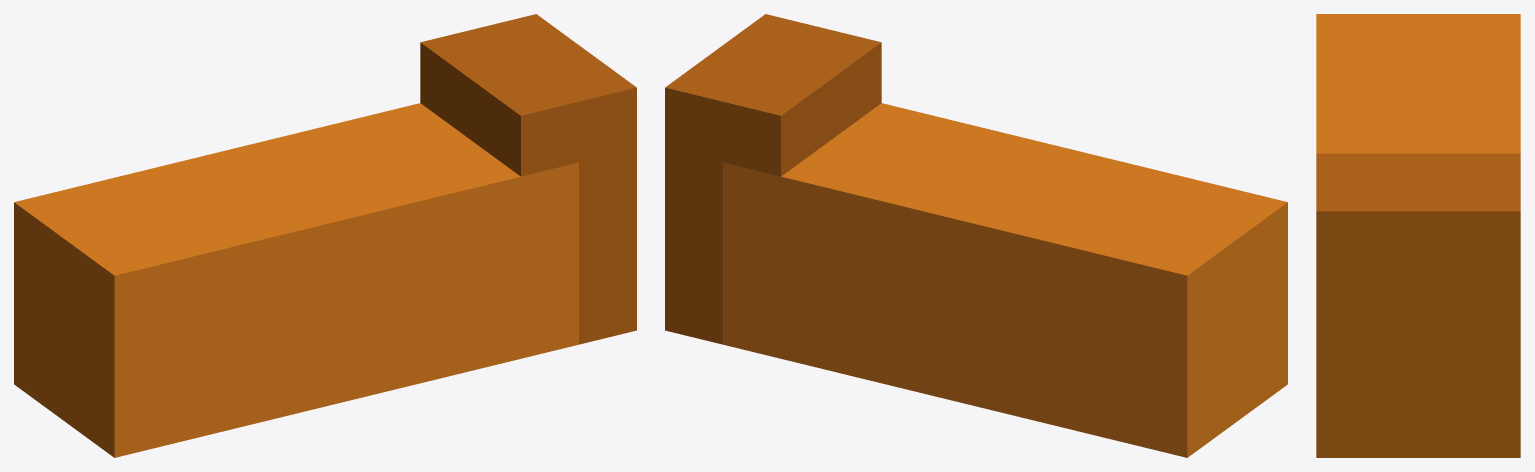
Rendered from Bronze_Shoulder_R.fbx.
The picture shows the model from 3 angles, left to right: view 1: azimuth 30°, elevation 25°; view 2: azimuth 150°, elevation 25°; view 3: azimuth 270°, elevation 25°; orthographic projection.
Size of the model in its own units: 9 by 4 by 3.
Materials: 1 (1 with a texture image).
